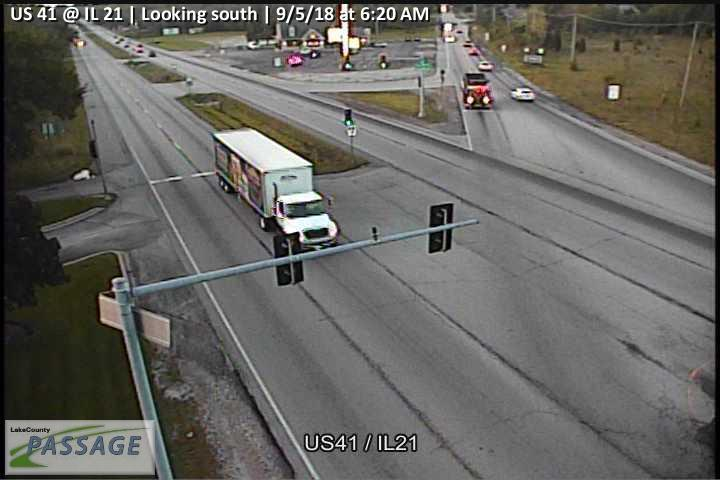Bus: (461, 38, 473, 47)
Sedan: (509, 85, 537, 102), (478, 60, 494, 70)
Truck: (211, 124, 341, 250), (460, 72, 495, 111), (468, 47, 479, 54)
